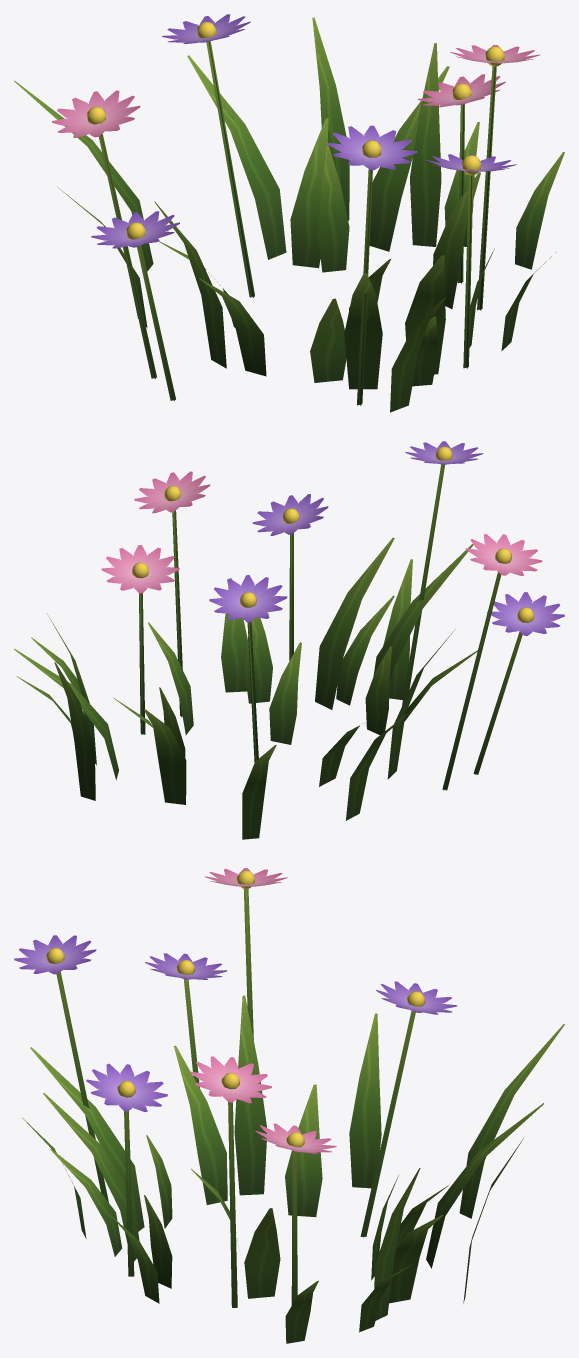
The model's file is flowers_wild.glb.
3 renders of one model, top to bottom at view 1: azimuth 30°, elevation 25°; view 2: azimuth 150°, elevation 25°; view 3: azimuth 270°, elevation 25°, orthographic. The views are drawn at different scales.
Visible parts, largest first — view 1: model; view 2: model; view 3: model.
Part boxes in pixels (box(x1,y1,x2,y2)): model: box(14, 14, 564, 412); model: box(14, 441, 564, 839); model: box(14, 868, 564, 1343).
Bounding box in the file's own units: 0.9792 × 0.5005 × 0.929.
Materials: 5 (4 with a texture image).
